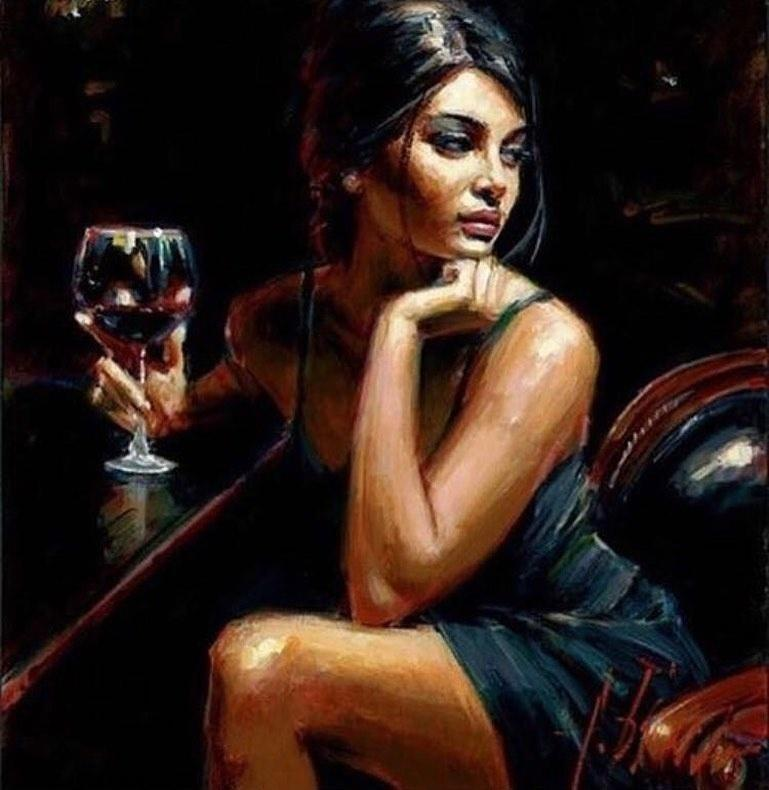glass-wine: (69, 223, 198, 481)
